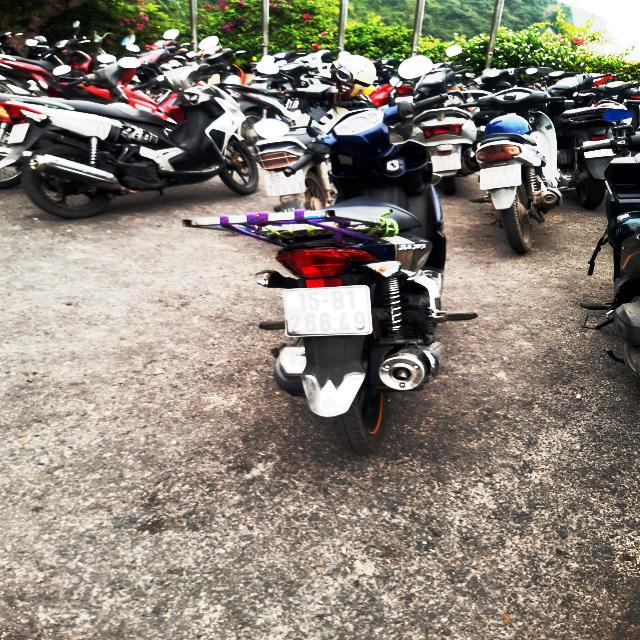license_plate: (275, 283, 377, 342), (476, 163, 526, 195), (429, 151, 466, 176)
